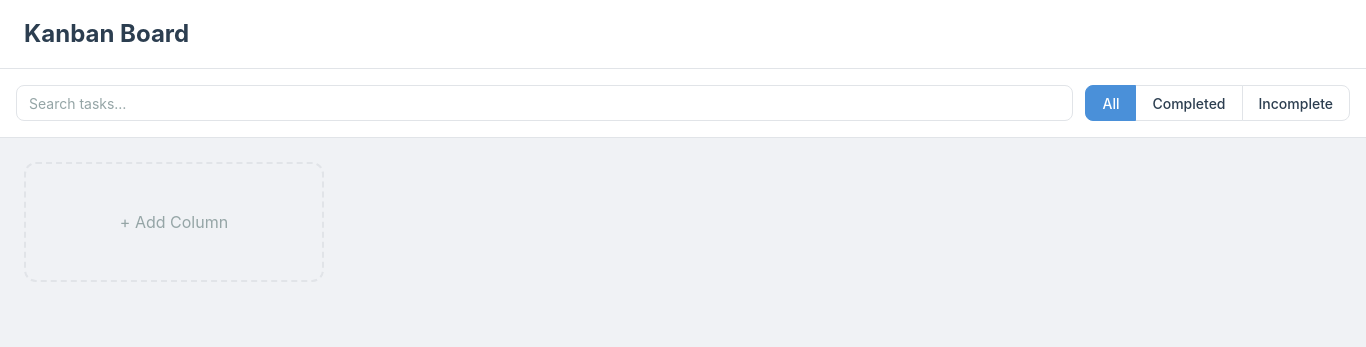
Integration: Add task flow › adds a task to a column and persists to localStorage
# Add a column first
Click the button "+ Add Column" at (174,222), box [24, 162, 324, 282]
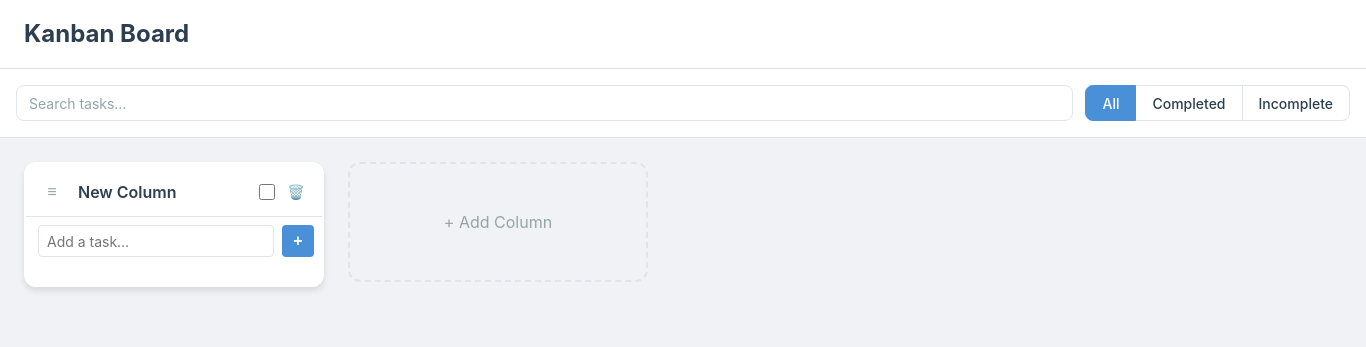
# Type a task name in the task input and submit
Type "Buy groceries" into the field with placeholder "Add a task…" at (156,241), box [38, 225, 274, 257]
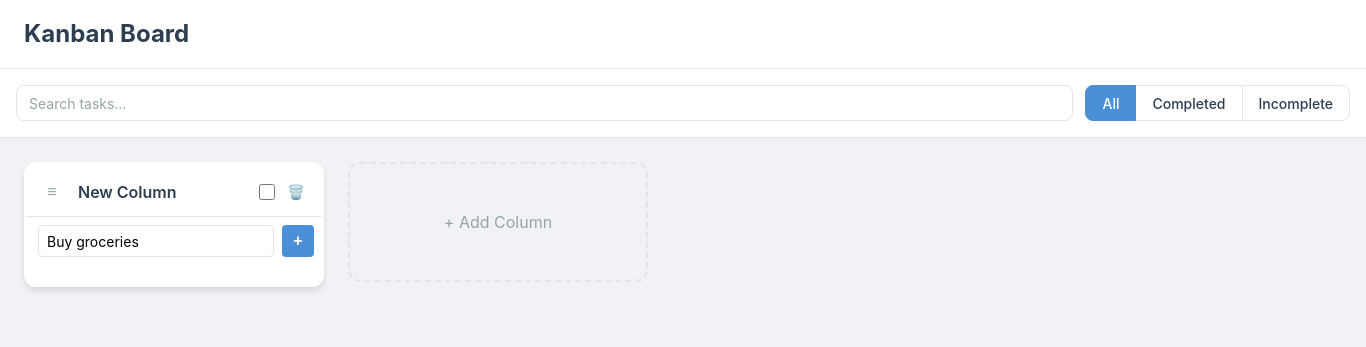
Submit the form with placeholder "Add a task…", box [26, 217, 322, 265]
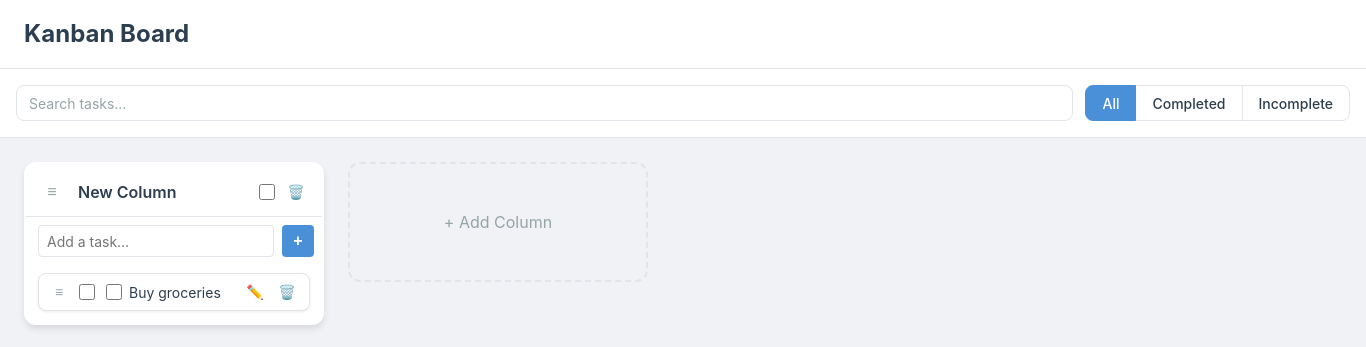
Result: the text "Buy groceries" is shown at [129, 284, 221, 300]
